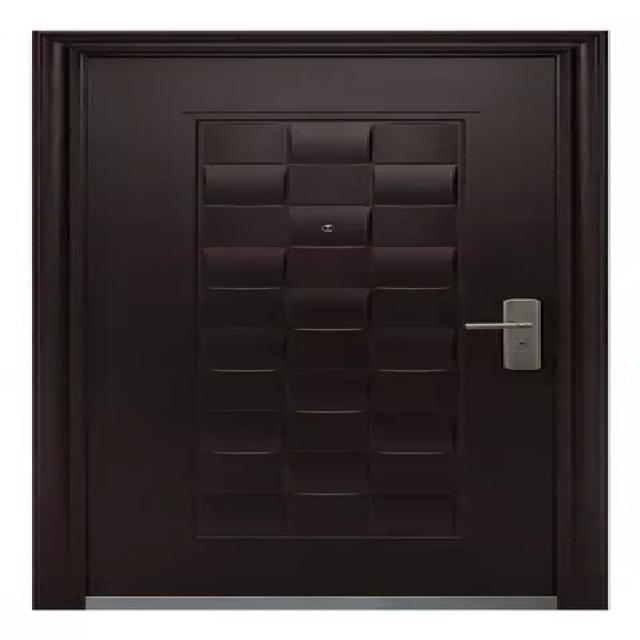door: (36, 31, 604, 609)
